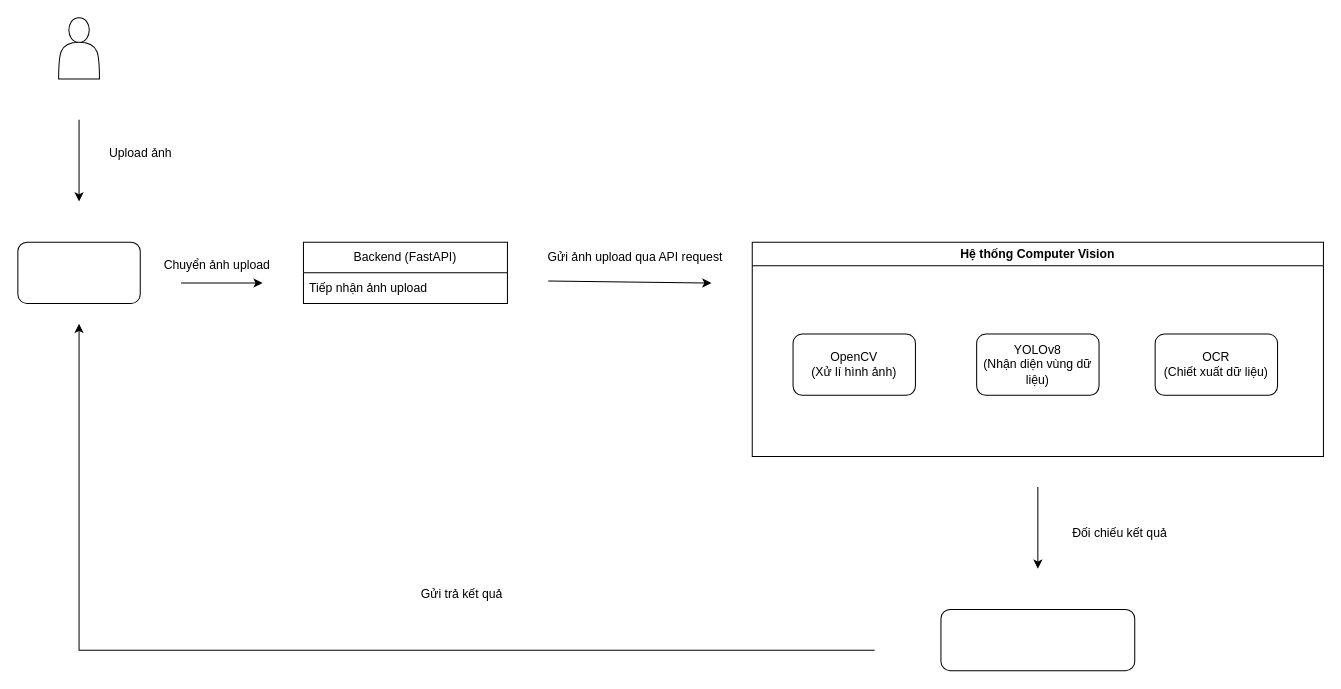
The diagram is 1341 pixels wide and 689 high, and some of its shapes have lost their labels. Here are the shapes that lost their labels. From the top down, the centre of each, then its label:
point 78,272: Frontend (Giao diện Web)
point 1037,639: Database (SQLite / MySQL)
